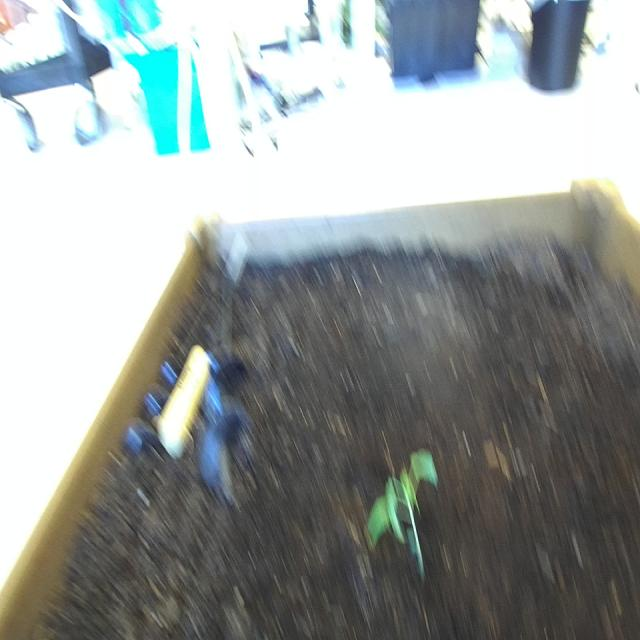Healthy: (359, 432, 446, 597)
